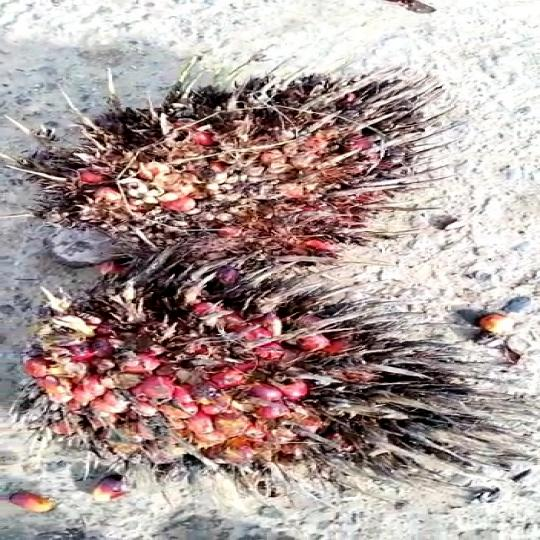terlalu masak: (0, 74, 470, 271), (1, 268, 475, 462)
